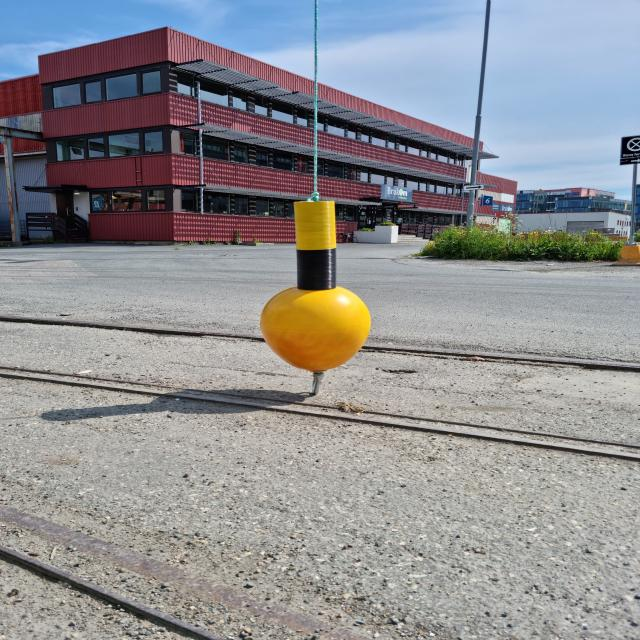west: (260, 198, 370, 370)
